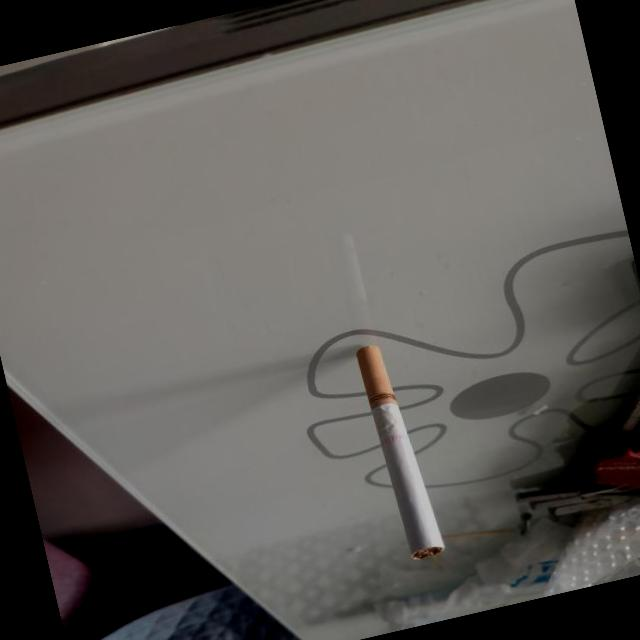smoke: (352, 338, 445, 562)
